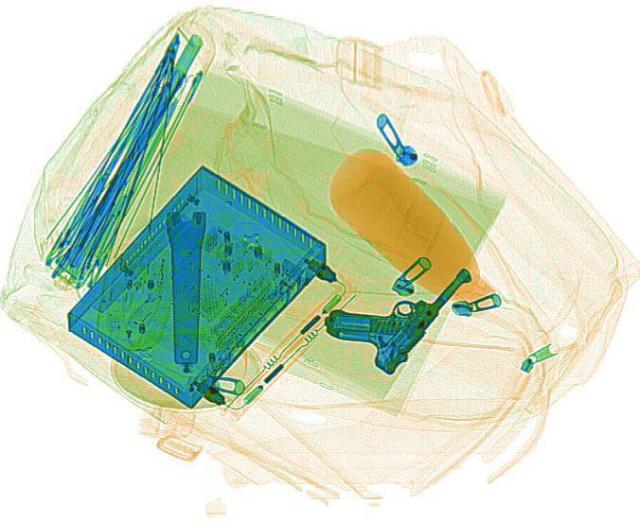Gun: (308, 234, 474, 375)
